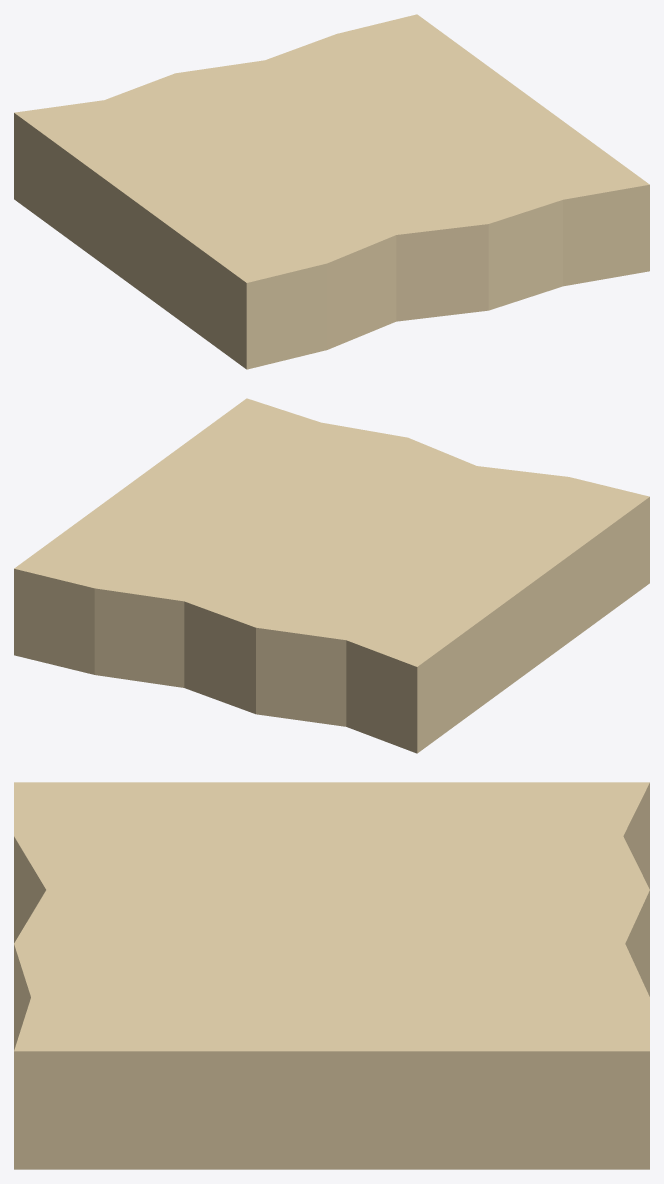
The model's file is kum-tip2.fbx.
3 views of the same model, one above another, from view 1: azimuth 30°, elevation 25°; view 2: azimuth 150°, elevation 25°; view 3: azimuth 270°, elevation 25° (orthographic). The views are drawn at different scales.
Visible parts, largest first — view 1: Cube.059; view 2: Cube.059; view 3: Cube.059.
Boxes of the visible parts, x1=… form: Cube.059: x1=14, y1=14, x2=649, y2=369; Cube.059: x1=14, y1=398, x2=649, y2=753; Cube.059: x1=14, y1=782, x2=649, y2=1169.
Bounding box in the file's own units: 200 × 41.06 × 200.
